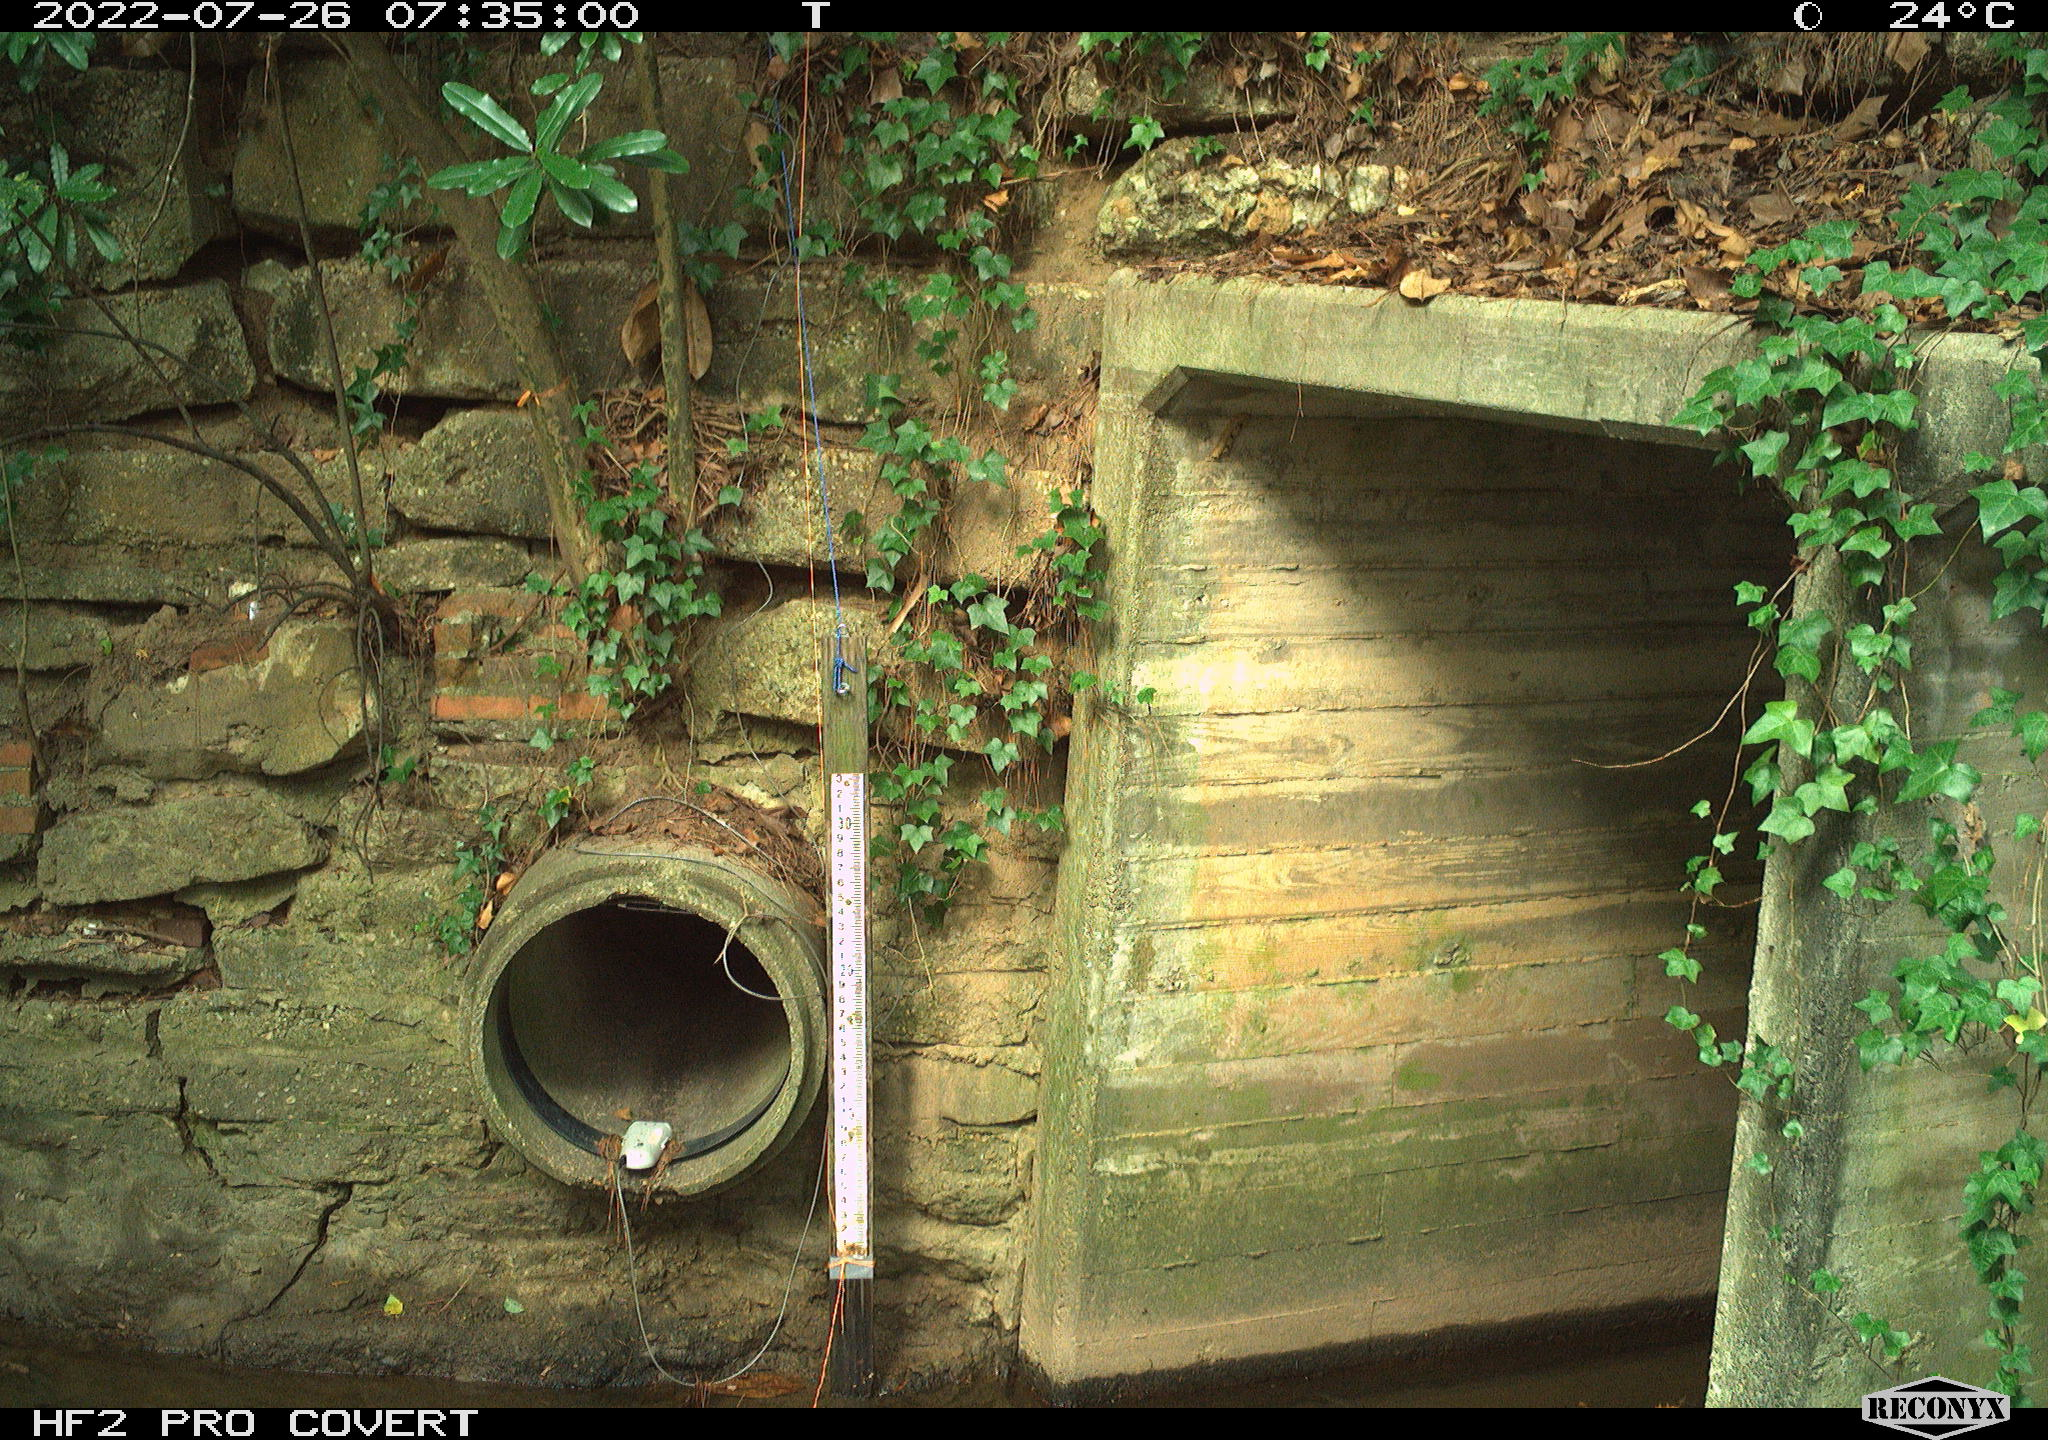Empty Outlet: (483, 904, 792, 1188)
